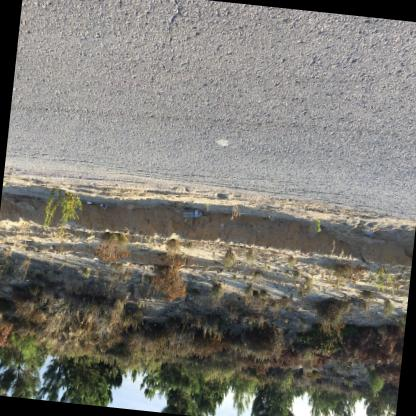Plastic: (182, 207, 202, 216), (361, 229, 374, 235), (99, 202, 106, 207)
Waste: (85, 200, 91, 203)
